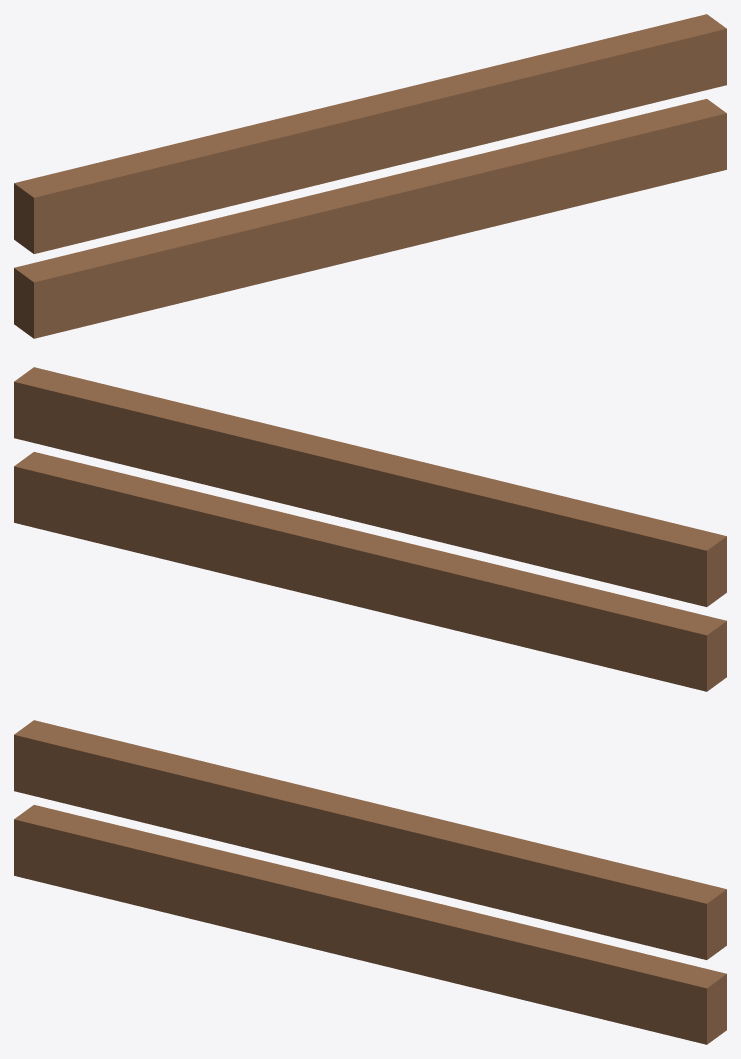
File: bench_lod.glb
The picture shows the model from 3 angles, top to bottom: view 1: azimuth 30°, elevation 25°; view 2: azimuth 150°, elevation 25°; view 3: azimuth 330°, elevation 25°; orthographic projection.
Parts seen in each view (by area): view 1: bench_Bench_Back, bench_Bench_Back.001; view 2: bench_Bench_Back, bench_Bench_Back.001; view 3: bench_Bench_Back, bench_Bench_Back.001.
Boxes of the visible parts, <box> form: bench_Bench_Back: <box>14,99,726,338</box>; bench_Bench_Back.001: <box>14,14,726,253</box>; bench_Bench_Back: <box>14,452,726,691</box>; bench_Bench_Back.001: <box>14,367,726,606</box>; bench_Bench_Back: <box>14,805,726,1044</box>; bench_Bench_Back.001: <box>14,720,726,959</box>.
Bounding box in the file's own units: 1.8 × 0.35 × 0.09.
